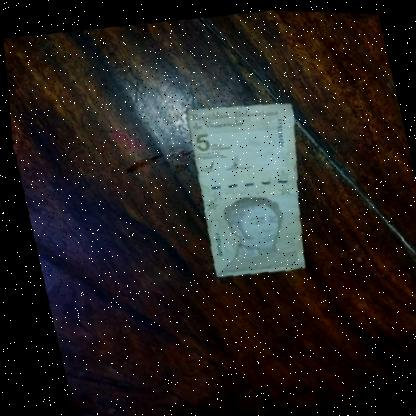five-front-vef: (166, 87, 333, 284)
